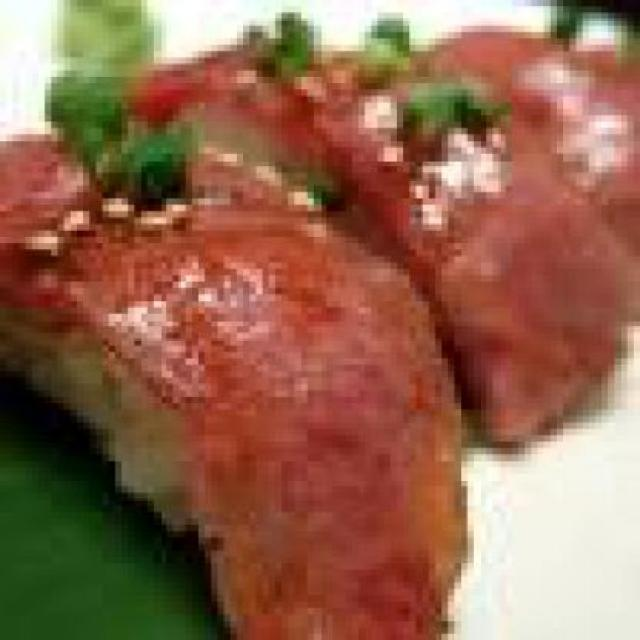steak: (6, 51, 634, 372)
